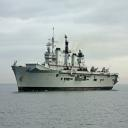Portanaves: (12, 27, 122, 94)
